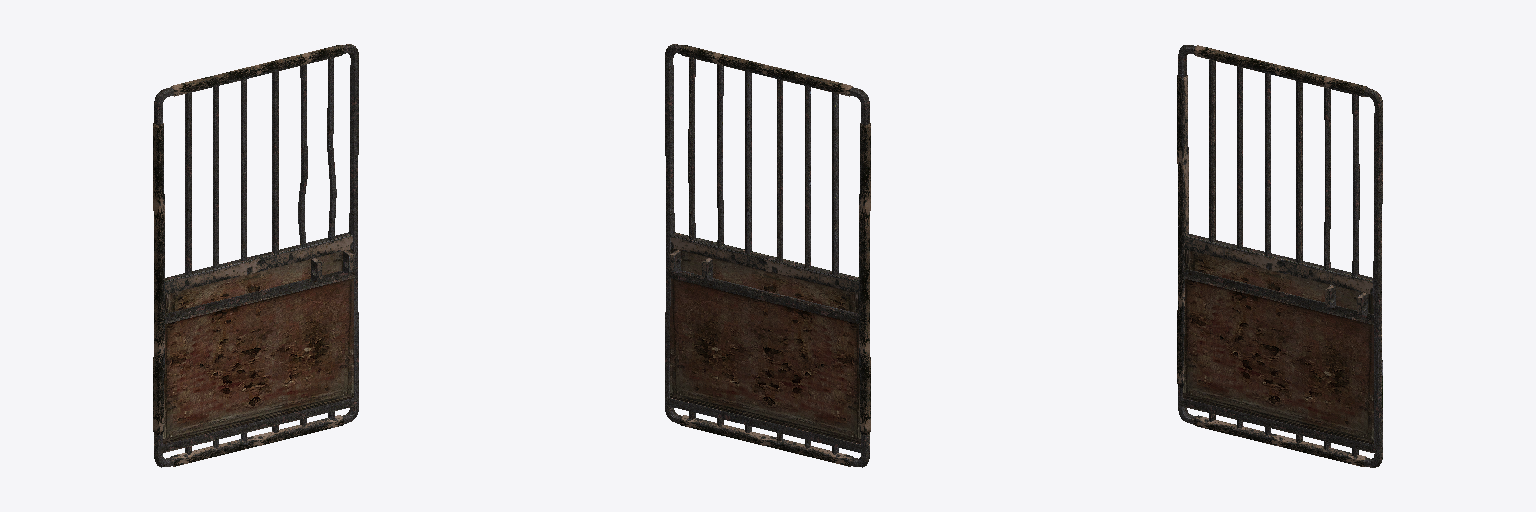
3 renders of one model, left to right at view 1: azimuth 30°, elevation 25°; view 2: azimuth 150°, elevation 25°; view 3: azimuth 330°, elevation 25°, orthographic.
Parts seen in each view (by area): view 1: rdmobj01; view 2: rdmobj01; view 3: rdmobj01.
Part boxes in pixels (x1,y1,x2,y2): rdmobj01: (153,44,358,467); rdmobj01: (665,44,870,467); rdmobj01: (1177,45,1382,467).
Bounding box in the file's own units: 130 × 230 × 17.93.
2 materials, 1 textured.